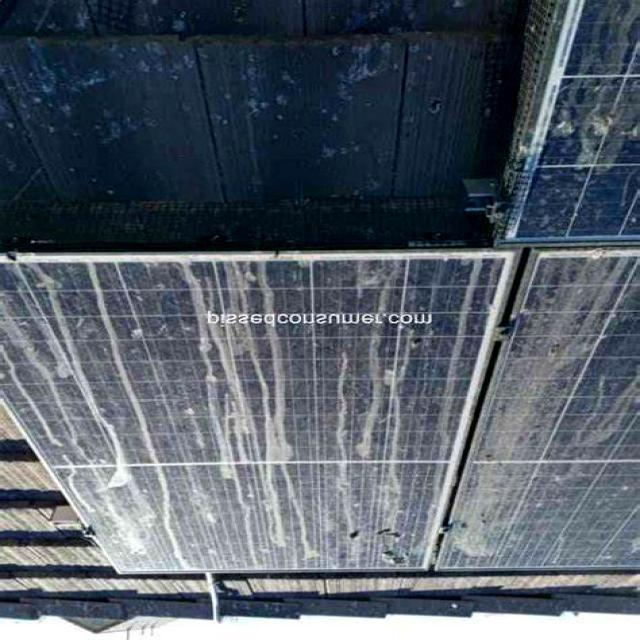soiled: (7, 248, 517, 577), (455, 254, 640, 572), (506, 0, 640, 244)
